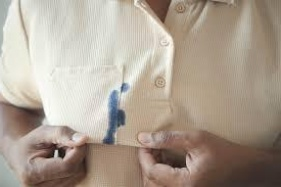ink: (106, 91, 118, 142), (119, 109, 125, 126), (121, 83, 129, 93)
